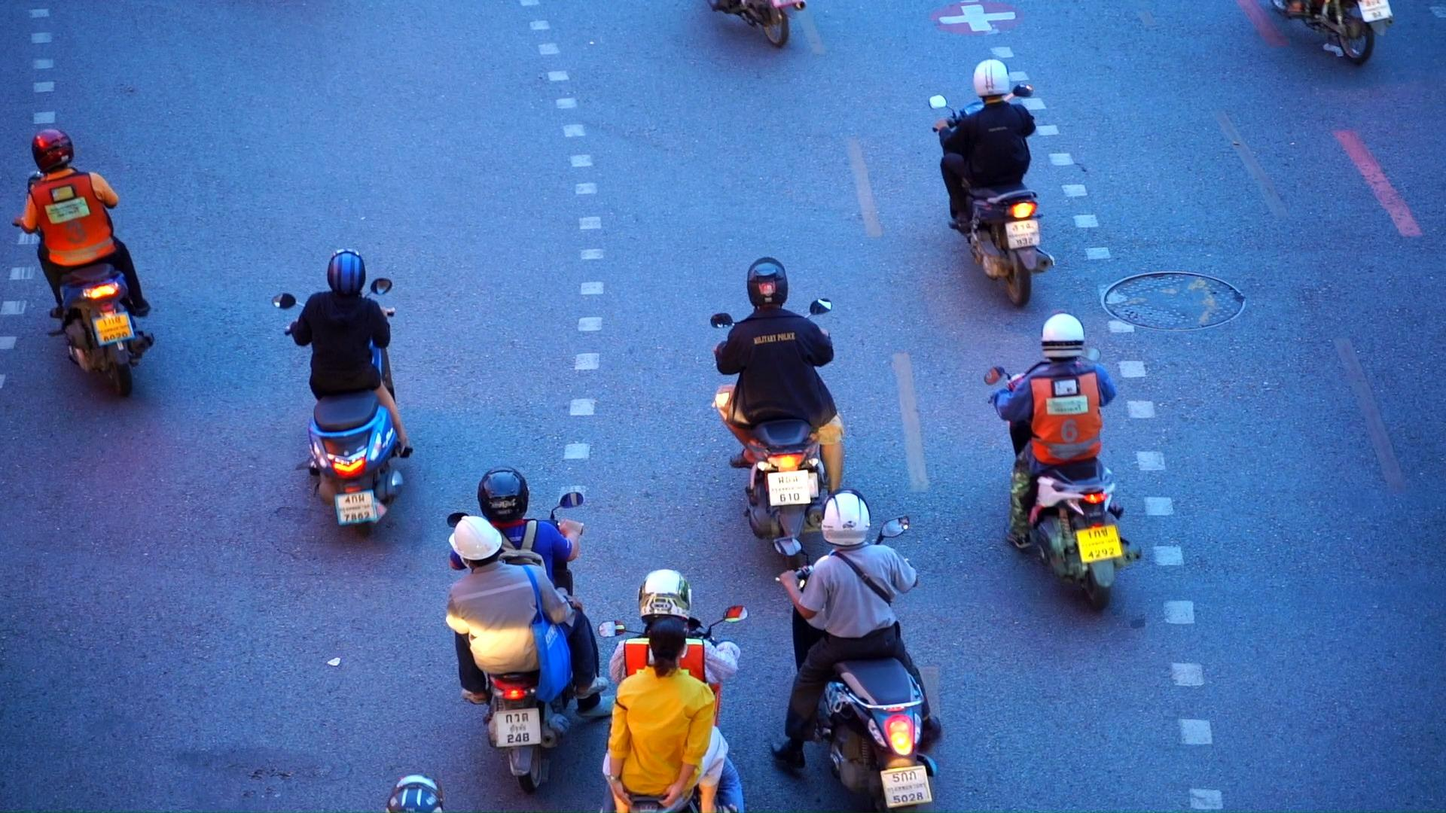driver: (448, 464, 615, 796), (773, 487, 941, 813), (985, 311, 1142, 612), (710, 258, 846, 571), (272, 247, 414, 538), (11, 129, 156, 397), (599, 569, 748, 813), (928, 59, 1056, 308), (1270, 0, 1394, 66)
helmet: (637, 569, 693, 626), (448, 515, 502, 573), (477, 465, 530, 524), (821, 487, 871, 548), (384, 775, 444, 813), (1041, 311, 1085, 362), (747, 257, 788, 310), (31, 129, 75, 174), (327, 247, 366, 297), (973, 59, 1010, 104)
no-helmet: (648, 617, 687, 678)
